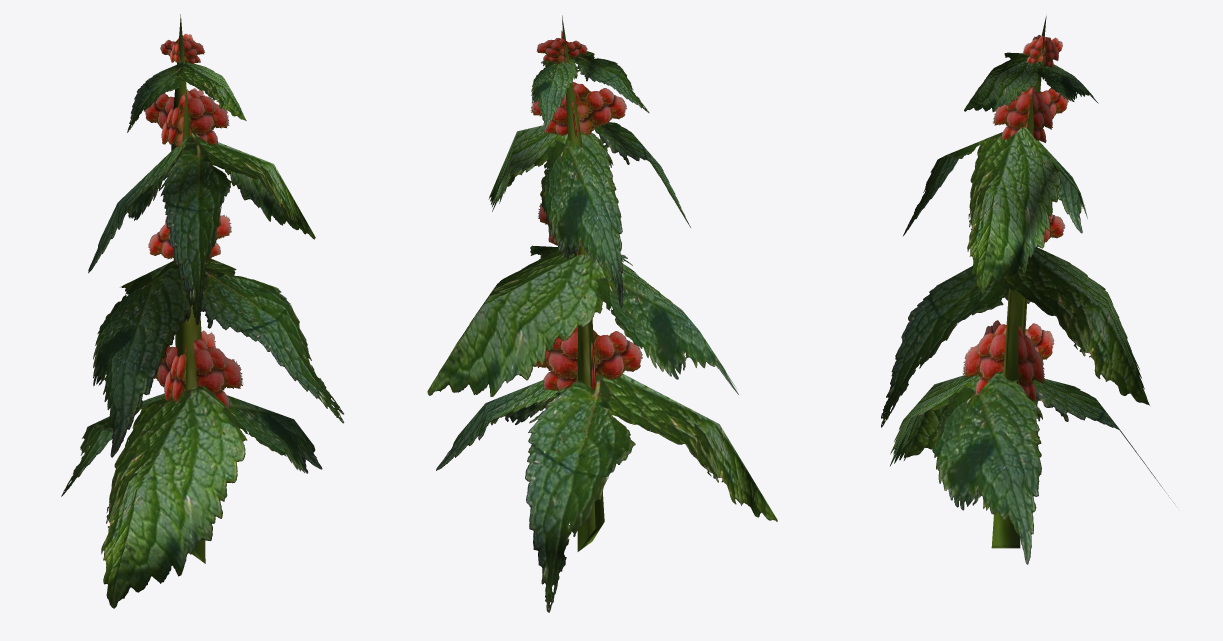
Rendered from ITPL_HEALTH_HERB_03.glb.
3 views of the same model, side by side, from view 1: azimuth 30°, elevation 25°; view 2: azimuth 150°, elevation 25°; view 3: azimuth 270°, elevation 25° (orthographic). The views are drawn at different scales.
Visible parts, largest first — view 1: Mesh; view 2: Mesh; view 3: Mesh.
Part boxes in pixels (x1=…): Mesh: x1=61, y1=14, x2=344, y2=608; Mesh: x1=427, y1=15, x2=777, y2=612; Mesh: x1=881, y1=16, x2=1174, y2=564.
Bounding box in the file's own units: 0.4788 × 0.7634 × 0.506.
3 materials, 3 textured.
